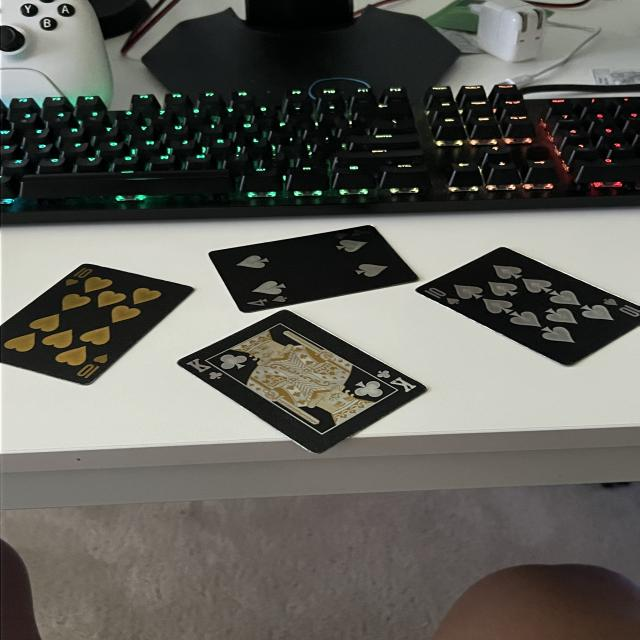10H: (72, 352, 114, 383), (65, 264, 92, 291)
10S: (600, 296, 640, 324), (422, 285, 465, 310)
4S: (244, 295, 293, 306)
KC: (371, 368, 422, 394), (182, 359, 230, 384)
